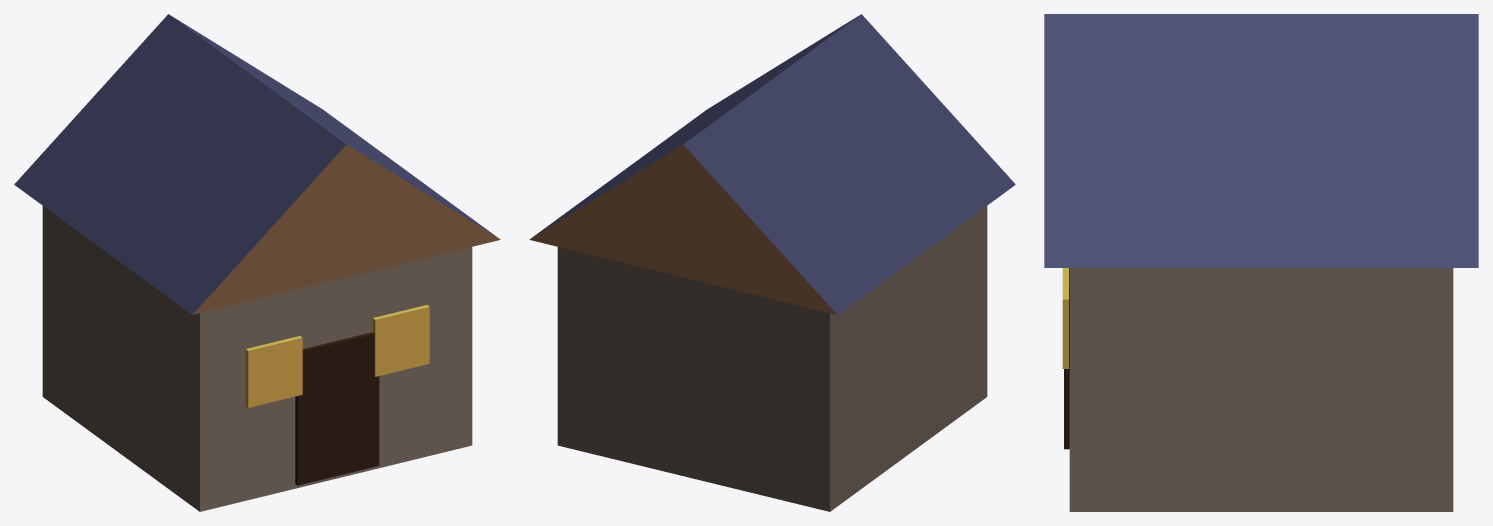
File: house_small.glb
3 renders of one model, left to right at view 1: azimuth 30°, elevation 25°; view 2: azimuth 150°, elevation 25°; view 3: azimuth 270°, elevation 25°, orthographic. The views are drawn at different scales.
Parts seen in each view (by area): view 1: scenery; view 2: scenery; view 3: scenery.
Part boxes in pixels (bbox=[...]): scenery: bbox=[14, 14, 500, 511]; scenery: bbox=[529, 14, 1015, 511]; scenery: bbox=[1044, 14, 1478, 511].
Size of what is drawn, in the model's own units: 3.4 by 3.6 by 3.4.
